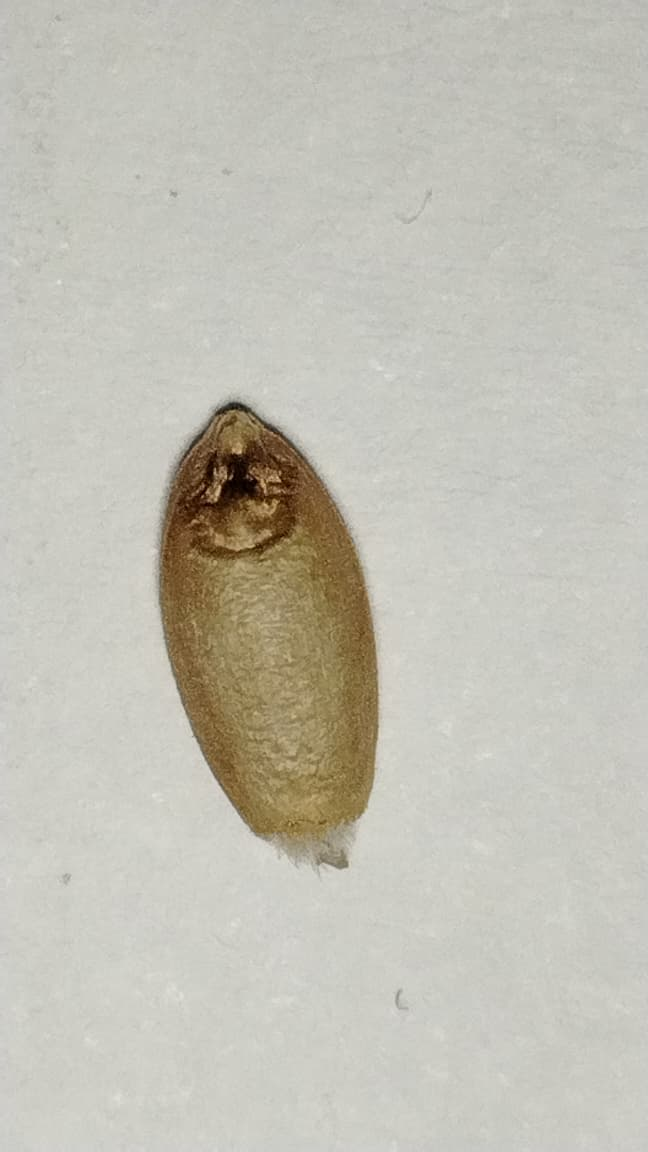black_point: (194, 429, 288, 561)
healthy: (163, 411, 375, 836)
